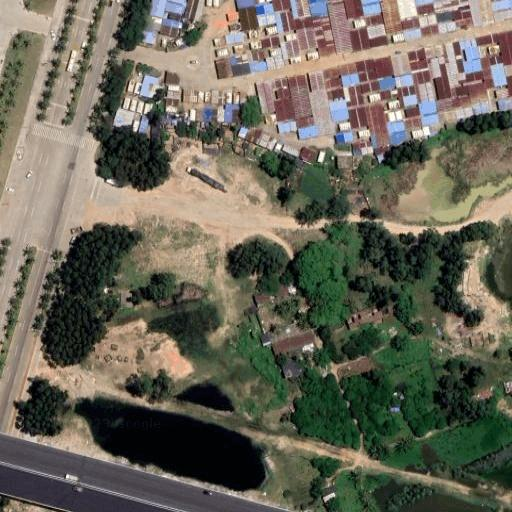building: (327, 1, 353, 54), (308, 89, 335, 136), (287, 75, 313, 121), (365, 103, 391, 149), (272, 329, 315, 356), (251, 280, 291, 307), (442, 42, 466, 87), (311, 15, 336, 58), (344, 304, 385, 329), (429, 56, 452, 100), (467, 81, 491, 115), (189, 168, 224, 190), (255, 80, 275, 113), (488, 55, 508, 87), (268, 322, 297, 343), (272, 96, 295, 122), (434, 97, 457, 123), (276, 355, 298, 382), (390, 53, 412, 77), (238, 6, 259, 30), (296, 26, 317, 50), (407, 49, 428, 73), (289, 342, 318, 359), (498, 31, 512, 66), (349, 28, 370, 51), (373, 56, 394, 79), (480, 56, 494, 89), (329, 98, 349, 121), (113, 107, 134, 128), (348, 107, 369, 128), (343, 85, 364, 106), (398, 85, 418, 107), (414, 82, 435, 102), (351, 141, 375, 158), (257, 132, 278, 151), (309, 70, 327, 92), (244, 126, 263, 144), (411, 69, 431, 86), (309, 2, 328, 19), (103, 175, 123, 191), (462, 58, 483, 73), (149, 0, 166, 18), (285, 39, 301, 58), (326, 85, 345, 101), (418, 100, 437, 116), (452, 95, 471, 111), (277, 119, 297, 134), (386, 119, 406, 134), (388, 131, 408, 146), (280, 145, 301, 159), (298, 147, 315, 164), (476, 34, 500, 46), (341, 73, 360, 88), (271, 0, 291, 14), (281, 11, 295, 31), (366, 24, 386, 38), (297, 125, 317, 139), (355, 59, 375, 73), (424, 46, 444, 60), (404, 116, 422, 131), (395, 74, 414, 88), (420, 113, 439, 127), (165, 2, 185, 15), (364, 13, 384, 26), (451, 7, 471, 20), (492, 10, 512, 23), (377, 77, 397, 90), (464, 70, 484, 83), (465, 332, 482, 347), (339, 63, 357, 77), (336, 155, 354, 169), (185, 0, 198, 19), (362, 4, 381, 17), (358, 70, 377, 83), (450, 84, 469, 97), (401, 18, 421, 30), (295, 117, 315, 129), (464, 46, 480, 61), (323, 67, 340, 81), (370, 34, 388, 47), (438, 21, 456, 34), (435, 10, 453, 23), (318, 485, 337, 497), (216, 59, 228, 78), (261, 36, 280, 48), (419, 15, 438, 27), (380, 88, 399, 100), (182, 89, 198, 103), (160, 25, 178, 37), (361, 81, 379, 93), (165, 71, 180, 85), (274, 13, 284, 34), (497, 97, 512, 111), (403, 29, 422, 40), (420, 26, 439, 37), (335, 132, 354, 143), (458, 39, 477, 50), (418, 2, 434, 15), (322, 492, 339, 504), (139, 116, 150, 134), (249, 62, 267, 73), (120, 291, 132, 307), (237, 123, 249, 139), (454, 108, 473, 118), (162, 18, 179, 29), (140, 80, 151, 97), (325, 77, 342, 88), (259, 332, 272, 346), (166, 99, 181, 111), (225, 34, 243, 44), (273, 78, 288, 90), (405, 107, 420, 119), (495, 88, 511, 99), (232, 104, 241, 123), (140, 31, 154, 43), (455, 18, 473, 27), (384, 110, 396, 123), (273, 55, 284, 69), (265, 10, 276, 24), (276, 88, 290, 99), (387, 100, 401, 111), (374, 146, 391, 155), (143, 75, 159, 84), (245, 304, 258, 315), (226, 12, 240, 22), (360, 0, 380, 7), (338, 122, 352, 132), (280, 42, 288, 59), (253, 51, 265, 62), (248, 27, 260, 38), (265, 57, 275, 70), (257, 12, 267, 25), (225, 104, 232, 122), (225, 58, 232, 76), (231, 65, 242, 76), (265, 115, 277, 125), (273, 142, 283, 154), (168, 12, 181, 21), (168, 90, 181, 99), (229, 23, 242, 32), (306, 51, 319, 60), (392, 34, 405, 43), (394, 108, 403, 121), (358, 128, 371, 137), (489, 45, 502, 54), (203, 147, 219, 154), (175, 35, 185, 46), (241, 63, 251, 74), (293, 19, 304, 29), (303, 15, 313, 26), (441, 0, 452, 10), (445, 120, 456, 130), (167, 0, 185, 6), (270, 48, 282, 57), (250, 41, 262, 50), (266, 26, 278, 35), (354, 19, 366, 28), (317, 150, 326, 162), (422, 125, 431, 137), (412, 129, 424, 138), (145, 125, 152, 140), (507, 75, 512, 96), (195, 108, 203, 121), (203, 108, 211, 121), (368, 94, 381, 102), (307, 0, 327, 5), (433, 2, 443, 12), (132, 121, 141, 132), (240, 54, 249, 65), (214, 37, 225, 46), (211, 90, 218, 104), (218, 90, 225, 104), (127, 81, 135, 93), (217, 109, 225, 121), (234, 45, 246, 53), (286, 33, 298, 41), (505, 380, 512, 393), (144, 104, 153, 114), (255, 5, 265, 14), (263, 3, 273, 12), (123, 98, 131, 109), (234, 55, 242, 66), (216, 49, 227, 57), (262, 47, 269, 59), (505, 64, 512, 76), (450, 0, 460, 8), (205, 91, 211, 104), (135, 82, 142, 93), (130, 100, 137, 111), (137, 102, 144, 113), (197, 92, 204, 103), (290, 56, 301, 63), (168, 84, 180, 90), (147, 91, 156, 99), (211, 109, 217, 121), (241, 92, 247, 104), (229, 57, 236, 67), (349, 204, 363, 209), (190, 110, 196, 121), (458, 0, 469, 6), (377, 153, 384, 162), (152, 128, 157, 140), (227, 92, 232, 104), (399, 392, 406, 400), (234, 93, 239, 104), (391, 406, 401, 411), (347, 189, 356, 194), (206, 0, 212, 7), (171, 119, 177, 126), (161, 38, 166, 46), (164, 118, 172, 123), (359, 196, 365, 202), (508, 0, 512, 8), (214, 0, 219, 6), (201, 121, 205, 128), (221, 121, 228, 125), (187, 116, 190, 125), (258, 0, 265, 3)
